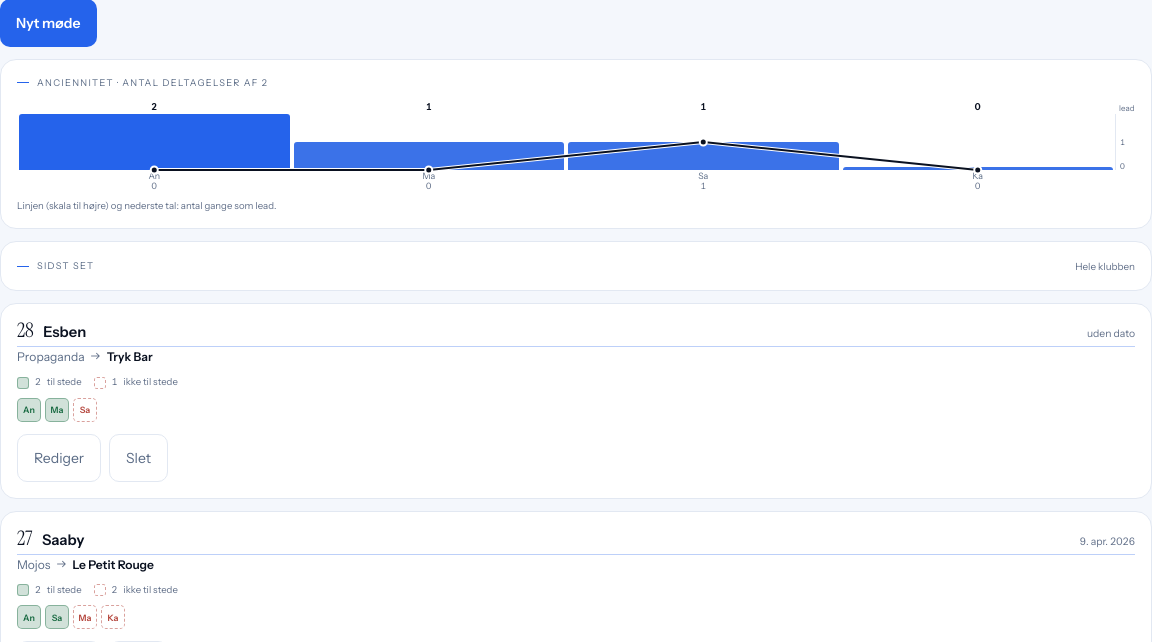
Test case: correcting a meeting already recorded › says so when the save fails, and keeps the form open
The image size is (1152, 642).
Expected: the heading "Esben" is shown, [43,321,86,343]
Click the button "Rediger" below "Propaganda". click: point(59, 458)
box: [17,434,101,482]
(page scrolled)
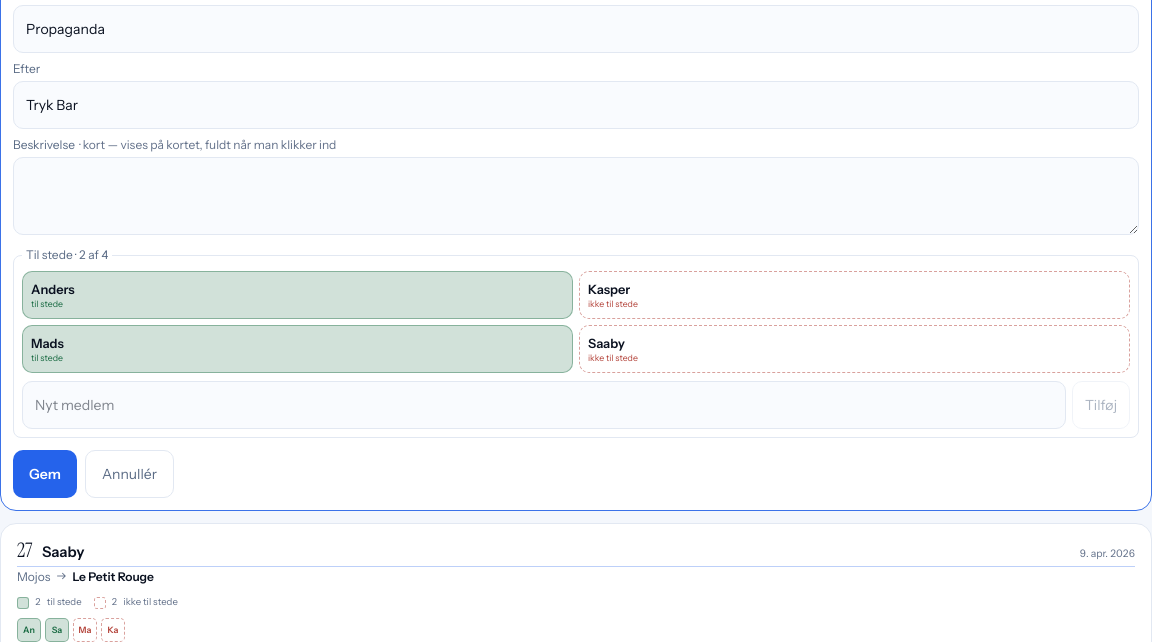
Click the button "Gem". click: point(45, 474)
box: [13,450,77,498]
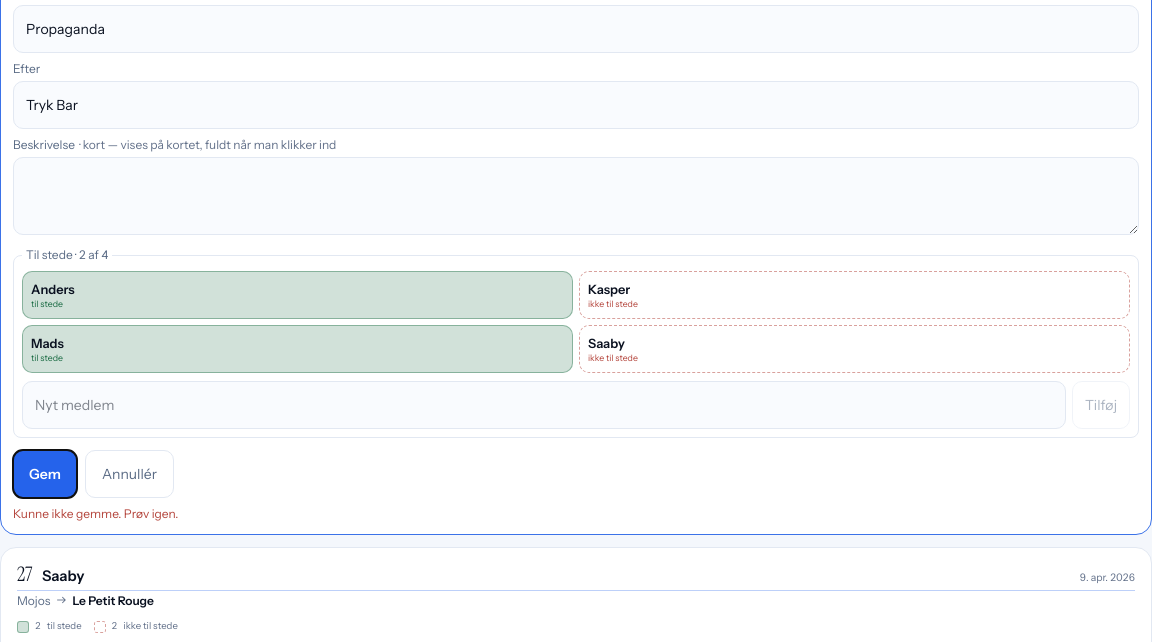
Expected: the button "Gem" is shown, [13,450,77,498]
Expected: the text "Kunne ikke gemme. Prøv igen." is shown, [13,506,178,521]
